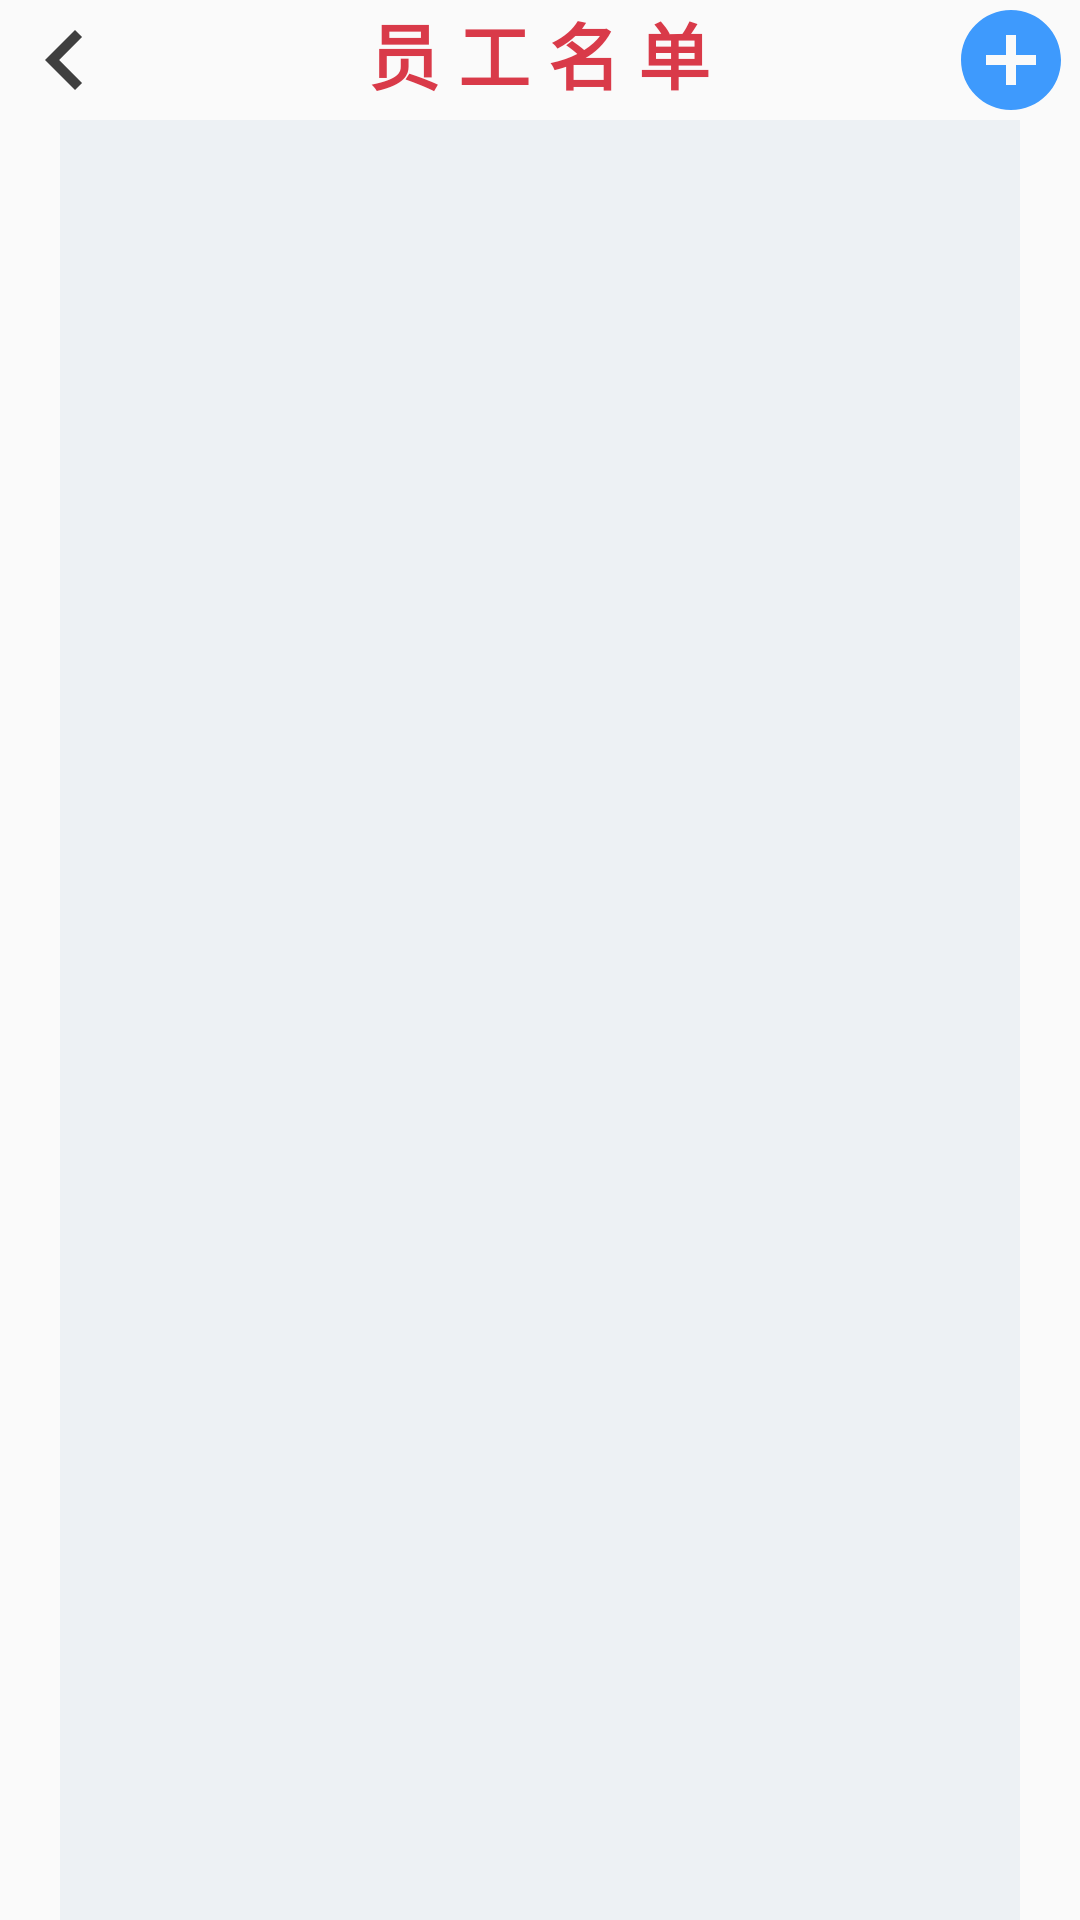

Screen size 1080x1920. Icon name, then its center in pixels as (x=x, y=y):
add circle: (x=1011, y=60)
chevron left: (x=63, y=60)
